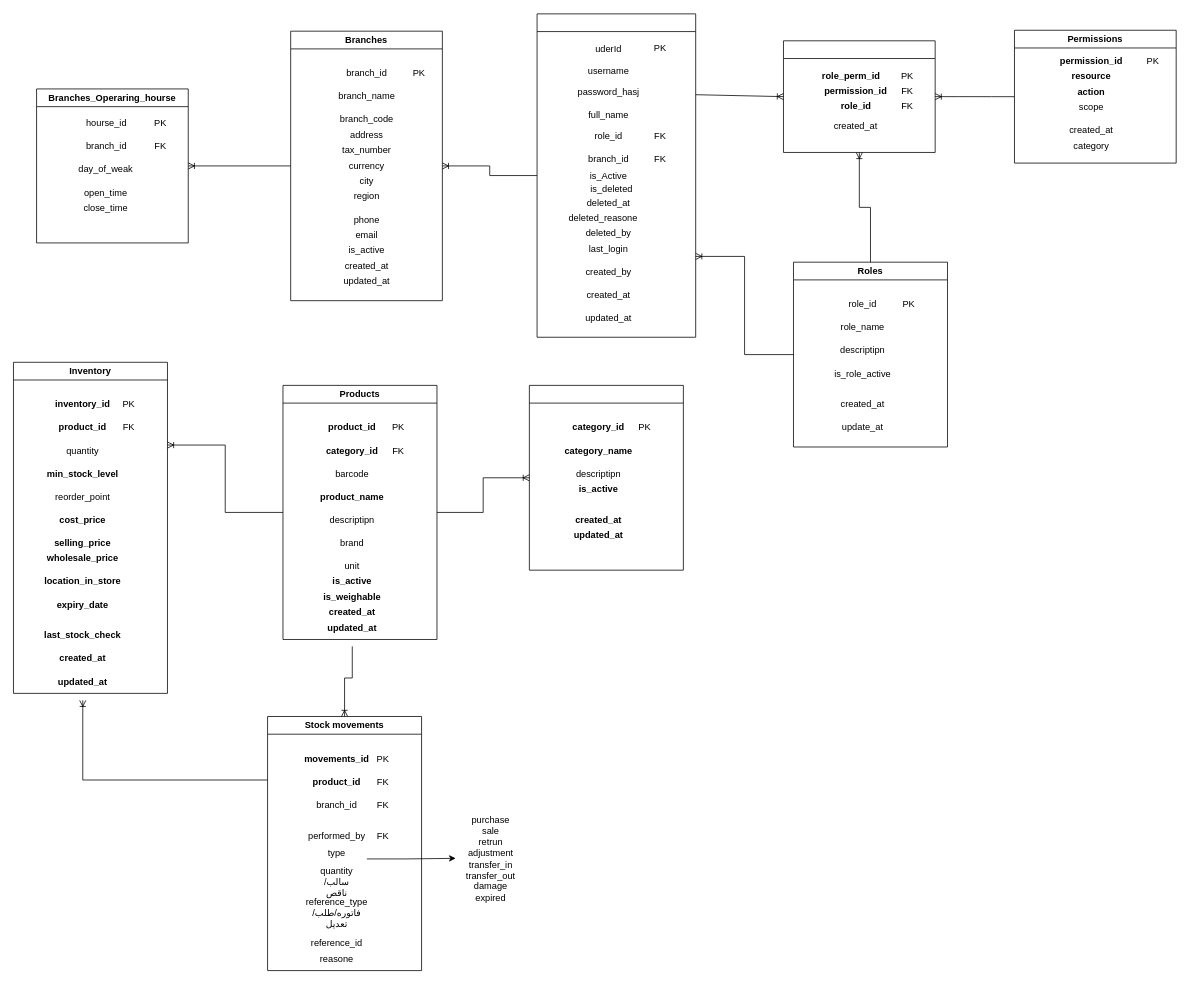
Some shapes in this 1190 by 984 pixel diagram are drawn without their labels. The box of each missing label's shape, as (x1, y1, x2, y2) in pixels:
Categories: (529, 385, 683, 570)
Role Permission: (783, 40, 935, 152)
Users: (536, 13, 696, 337)
